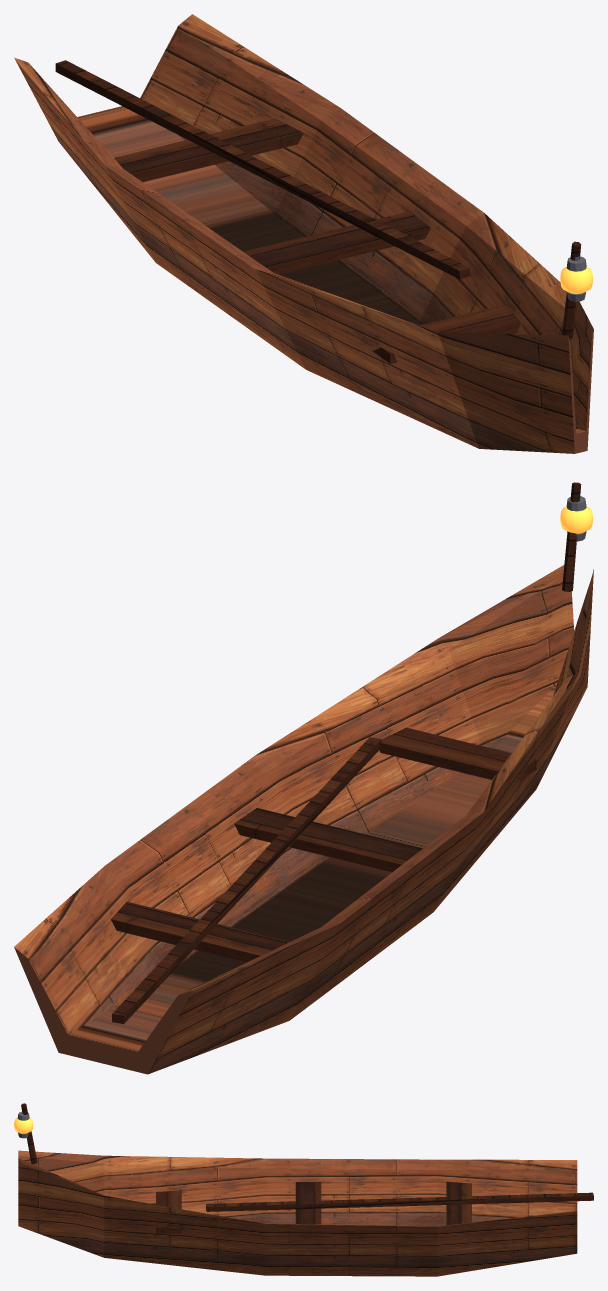
Rendered from boat_wasen.glb.
3 renders of one model, top to bottom at view 1: azimuth 30°, elevation 25°; view 2: azimuth 150°, elevation 25°; view 3: azimuth 270°, elevation 25°, orthographic. The views are drawn at different scales.
Visible parts, largest first — view 1: wasen_cedar, wasen_charred, wasen_chochin_glow; view 2: wasen_cedar, wasen_charred; view 3: wasen_cedar, wasen_charred, wasen_chochin_glow.
Boxes of the visible parts, <box> form: wasen_cedar: <box>14,14,593,453</box>; wasen_charred: <box>55,60,581,363</box>; wasen_chochin_glow: <box>560,267,592,293</box>; wasen_cedar: <box>14,565,593,1074</box>; wasen_charred: <box>110,482,581,1024</box>; wasen_cedar: <box>18,1150,577,1276</box>; wasen_charred: <box>21,1103,593,1233</box>; wasen_chochin_glow: <box>14,1118,33,1133</box>.
Size of the model in its own units: 1.48 by 1.57 by 5.4.
4 materials, 2 textured.
